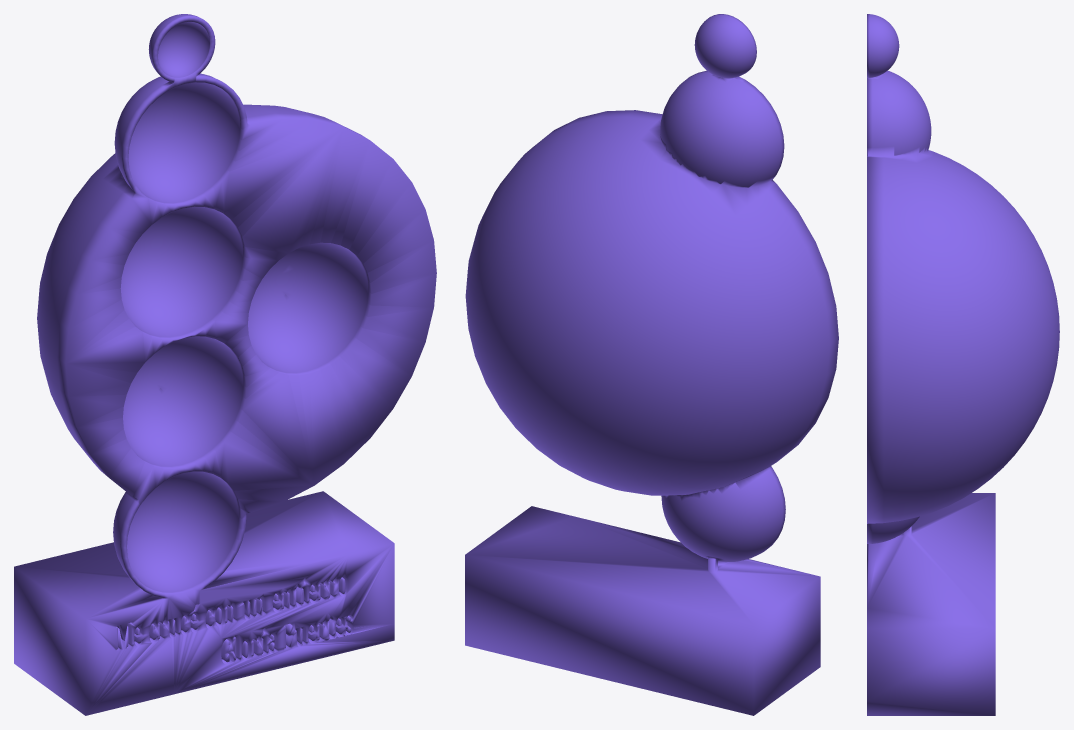
3 views of the same model, side by side, from view 1: azimuth 30°, elevation 25°; view 2: azimuth 150°, elevation 25°; view 3: azimuth 270°, elevation 25° (orthographic). The views are drawn at different scales.
Parts seen in each view (by area): view 1: GloriaF; view 2: GloriaF; view 3: GloriaF.
Boxes of the visible parts, <box> form: GloriaF: <box>14,14,436,715</box>; GloriaF: <box>465,14,838,715</box>; GloriaF: <box>867,14,1059,715</box>.
Bounding box in the file's own units: 120 × 209 × 60.
